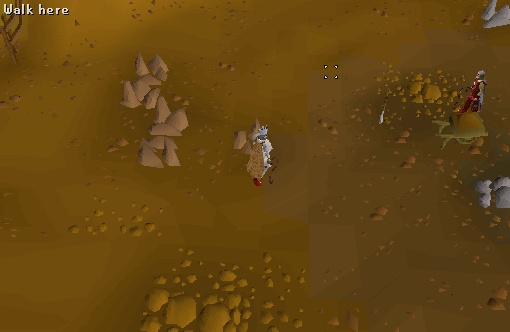copper: (133, 129, 190, 180), (111, 68, 168, 119)
